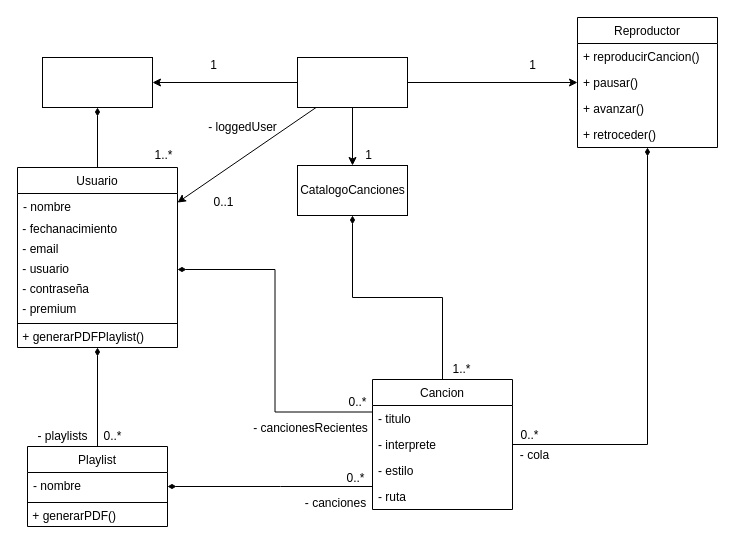
Image size: 735x544. Some labels were removed from this diagram. Each missing label, with the box of its shape:
AppMusic: (296, 56, 408, 108)
CatalogoUsuarios: (42, 56, 152, 108)
